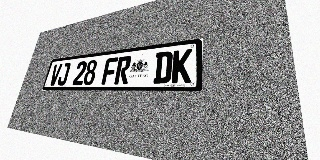2: (72, 61, 88, 85)
8: (82, 59, 98, 85)
D: (153, 51, 173, 84)
F: (101, 57, 118, 85)
J: (56, 62, 71, 85)
K: (171, 48, 192, 83)
R: (114, 55, 132, 84)
V: (48, 63, 62, 86)
